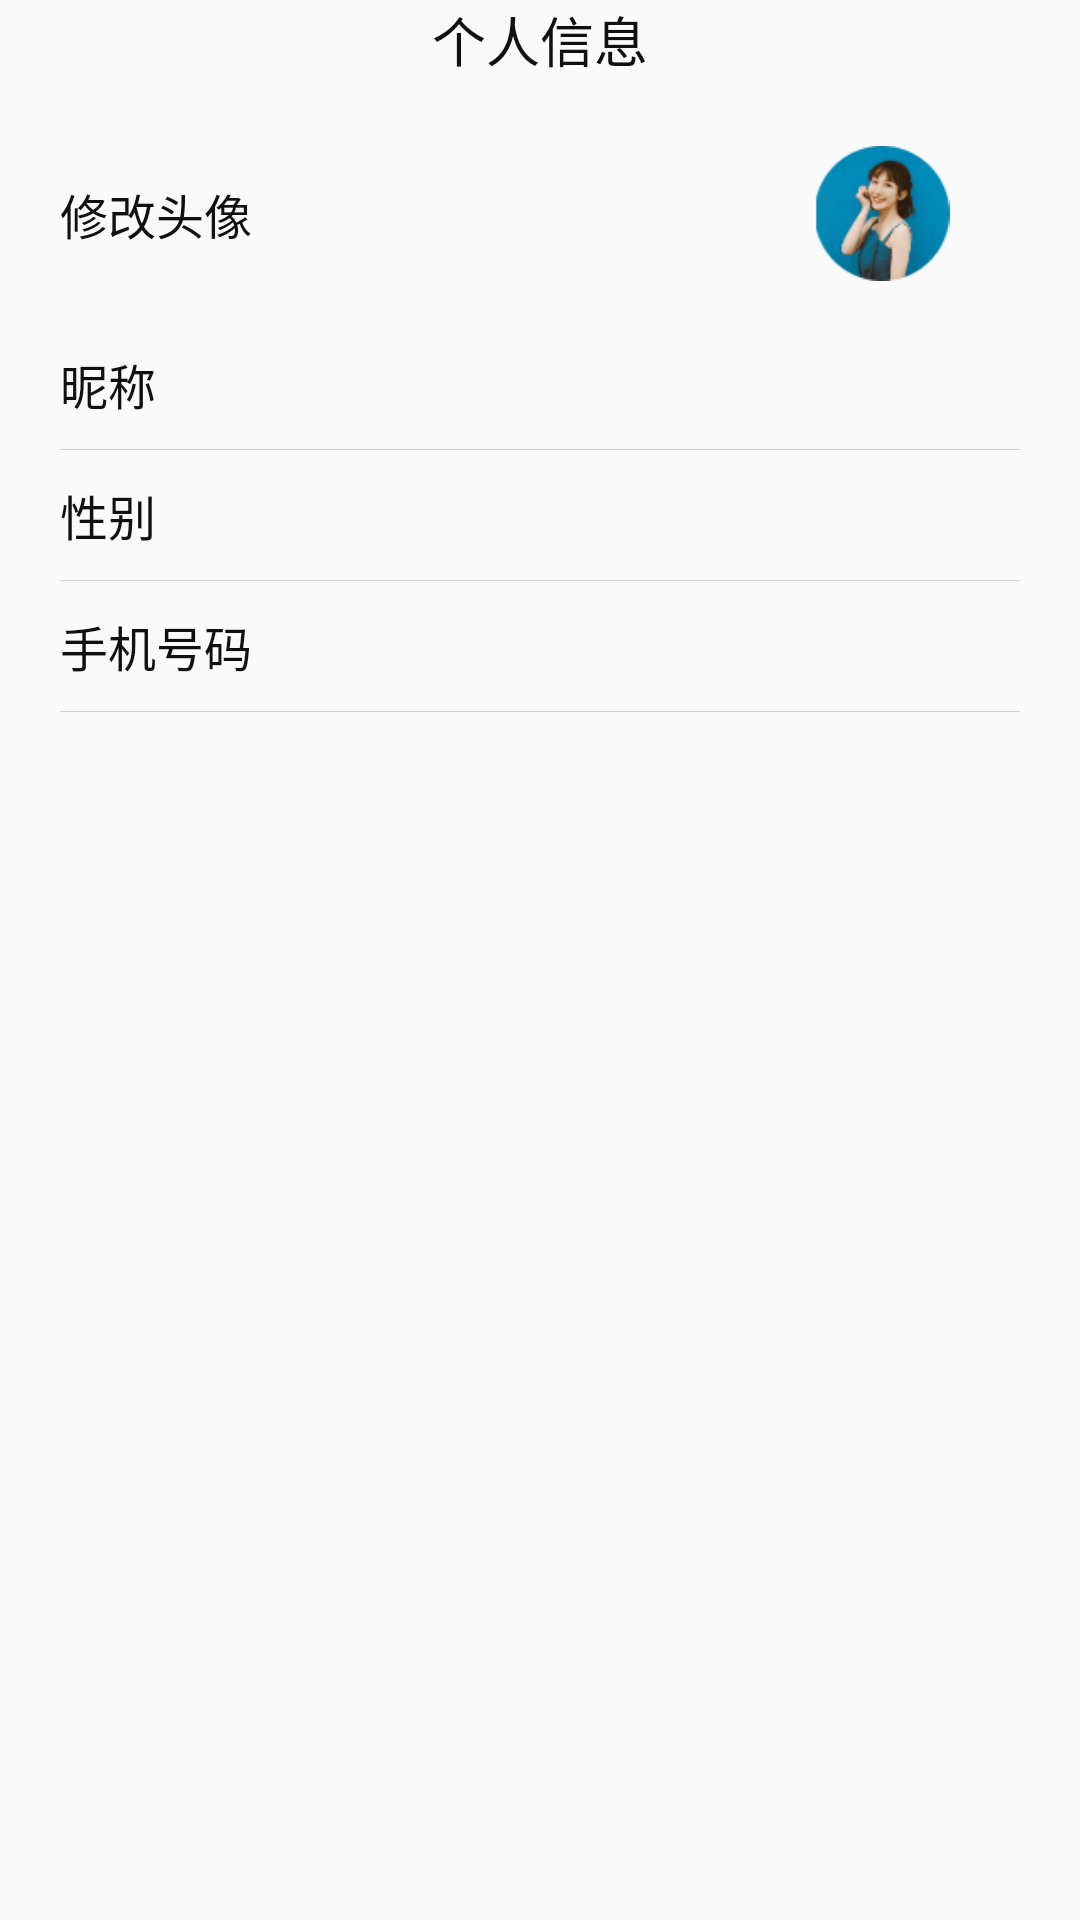

Icon click points for this 1080x1920 phone screenshot, format point (x, y):
touxiang: point (883, 213)
